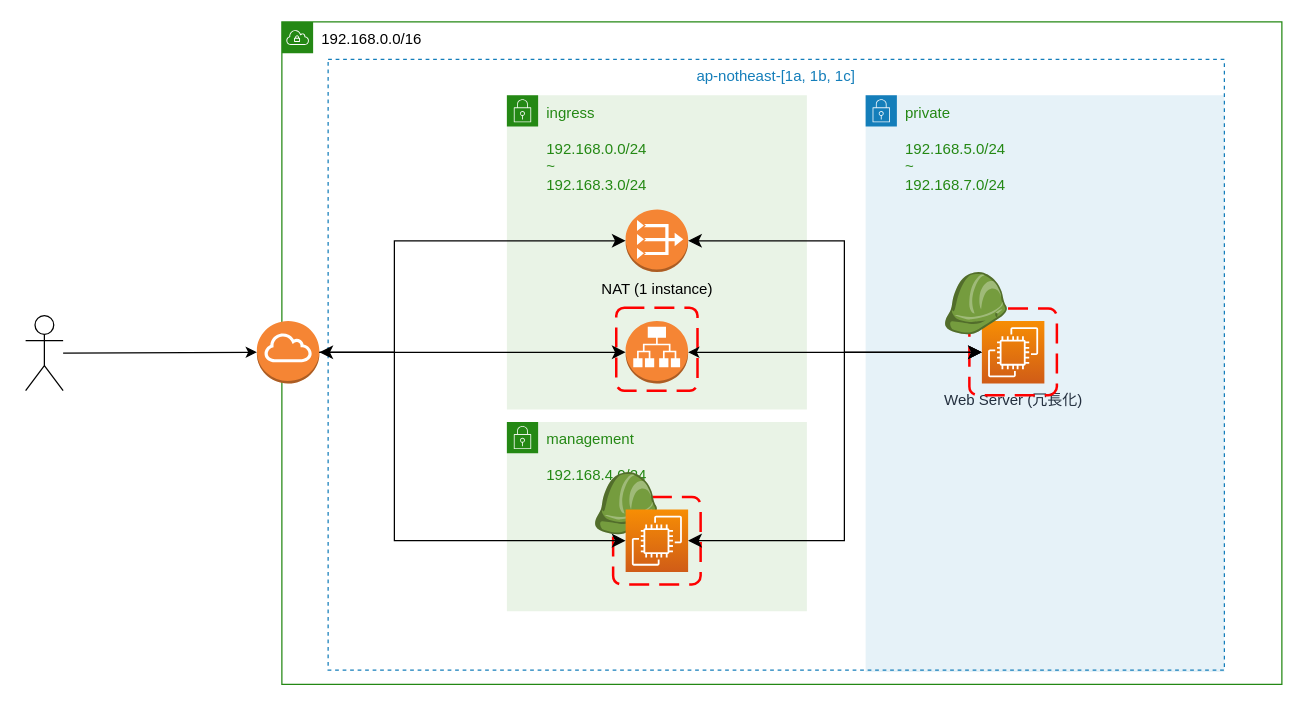
Image size: 1304x706. Some labels were removed from this diagram. Here are the shapes that lost their labels. From the top down, the centre of each, then its label:
point (43, 352): お前ら
point (656, 352): ALB (冗長化)
point (656, 540): Jump Server (1instance)
